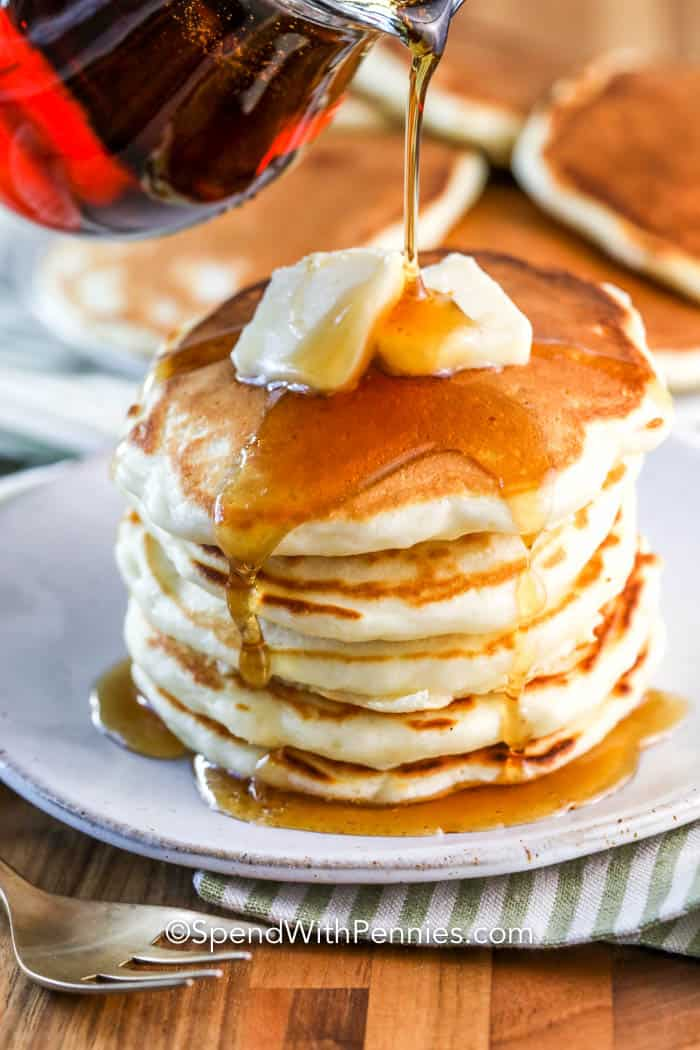pancakes: (97, 48, 700, 826)
